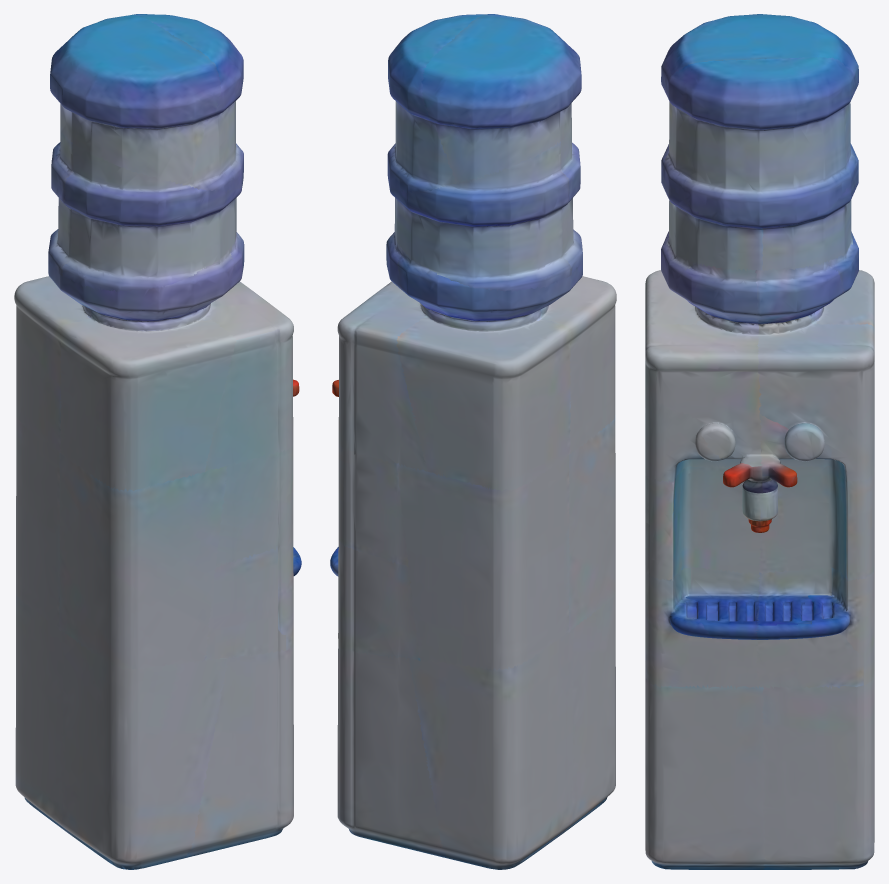
File: water_cooler.glb
3 renders of one model, left to right at view 1: azimuth 30°, elevation 25°; view 2: azimuth 150°, elevation 25°; view 3: azimuth 270°, elevation 25°, orthographic.
Parts seen in each view (by area): view 1: tripo_node_2b6057da-0980-437c-a2c9-60b6d2b208a4; view 2: tripo_node_2b6057da-0980-437c-a2c9-60b6d2b208a4; view 3: tripo_node_2b6057da-0980-437c-a2c9-60b6d2b208a4.
Boxes of the visible parts, x1,y1,x2,y2 form: tripo_node_2b6057da-0980-437c-a2c9-60b6d2b208a4: [14, 14, 301, 869]; tripo_node_2b6057da-0980-437c-a2c9-60b6d2b208a4: [330, 14, 616, 869]; tripo_node_2b6057da-0980-437c-a2c9-60b6d2b208a4: [645, 14, 874, 869].
Bounding box in the file's own units: 0.3044 × 1 × 0.2659.
1 material, 1 textured.
